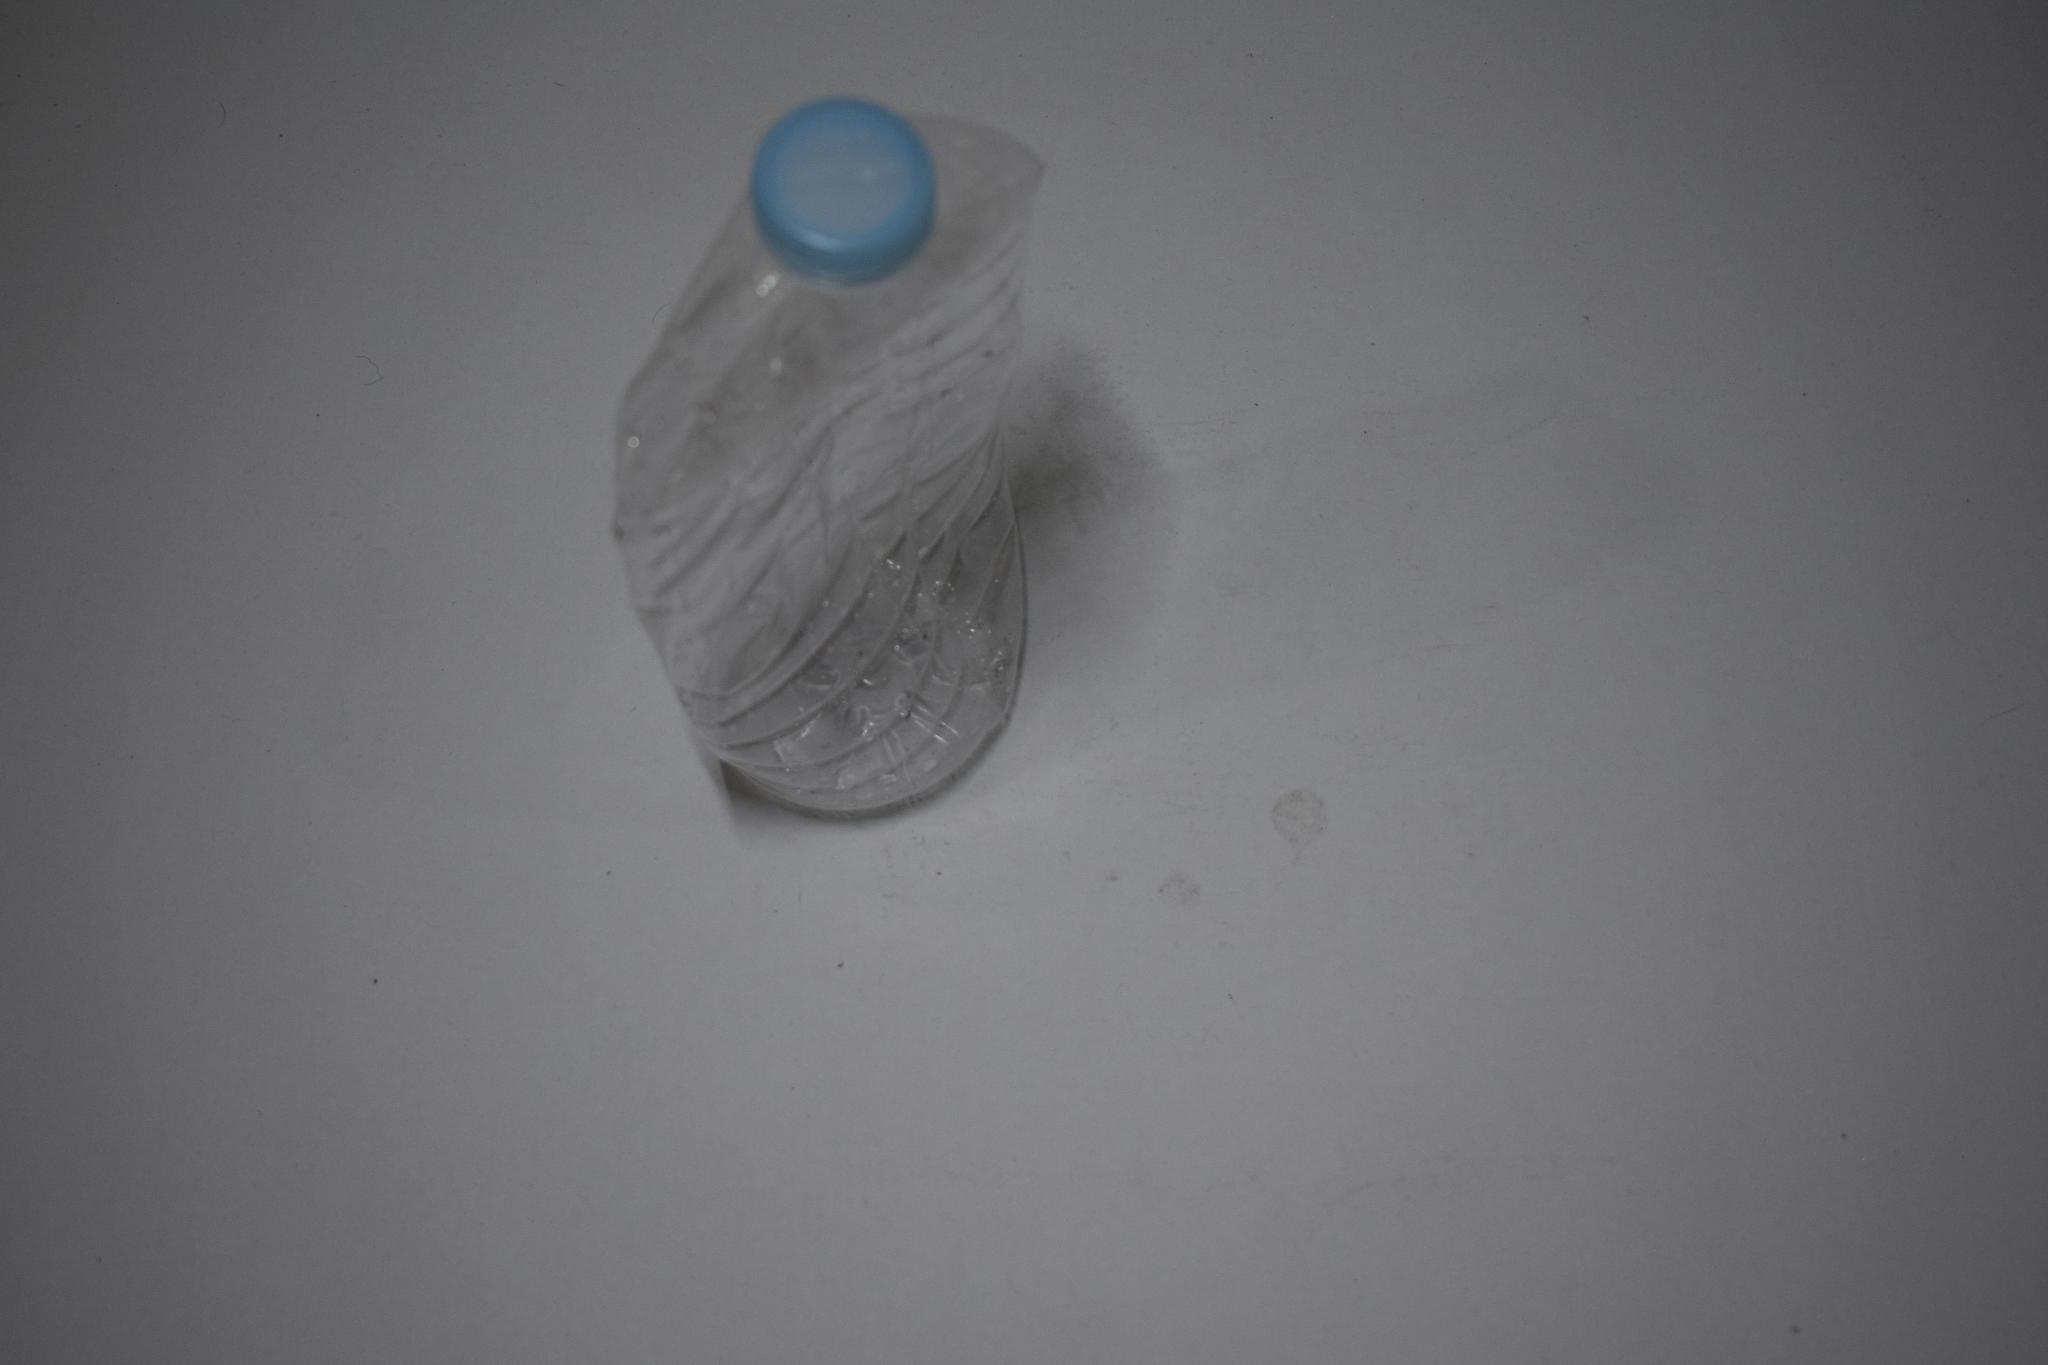bottle: (601, 91, 1051, 818)
